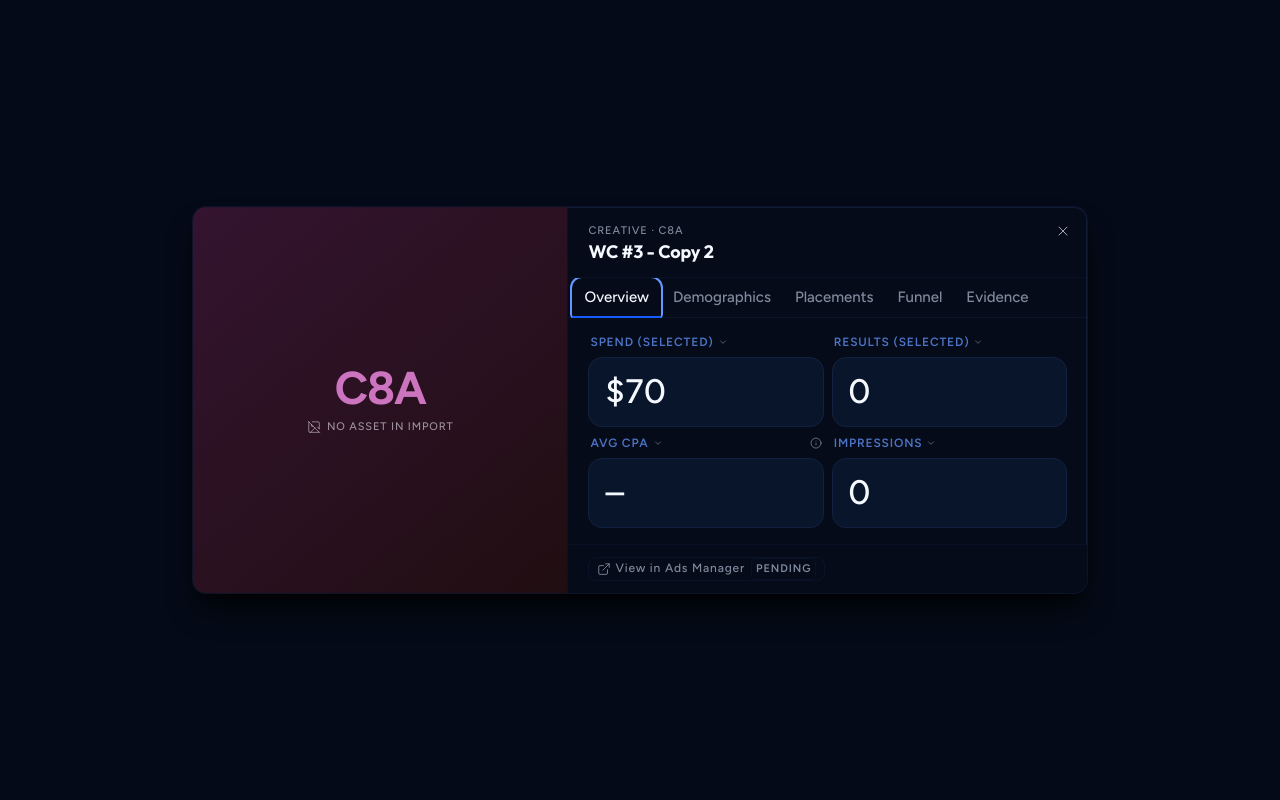
it: creative dialog joins evidence through mapped Ad IDs › Evidence lists the configured bundle and the deconstructed variable with their relationship
Click the tab "Evidence": (998, 298) top-left (954, 278), bottom-right (1041, 318)
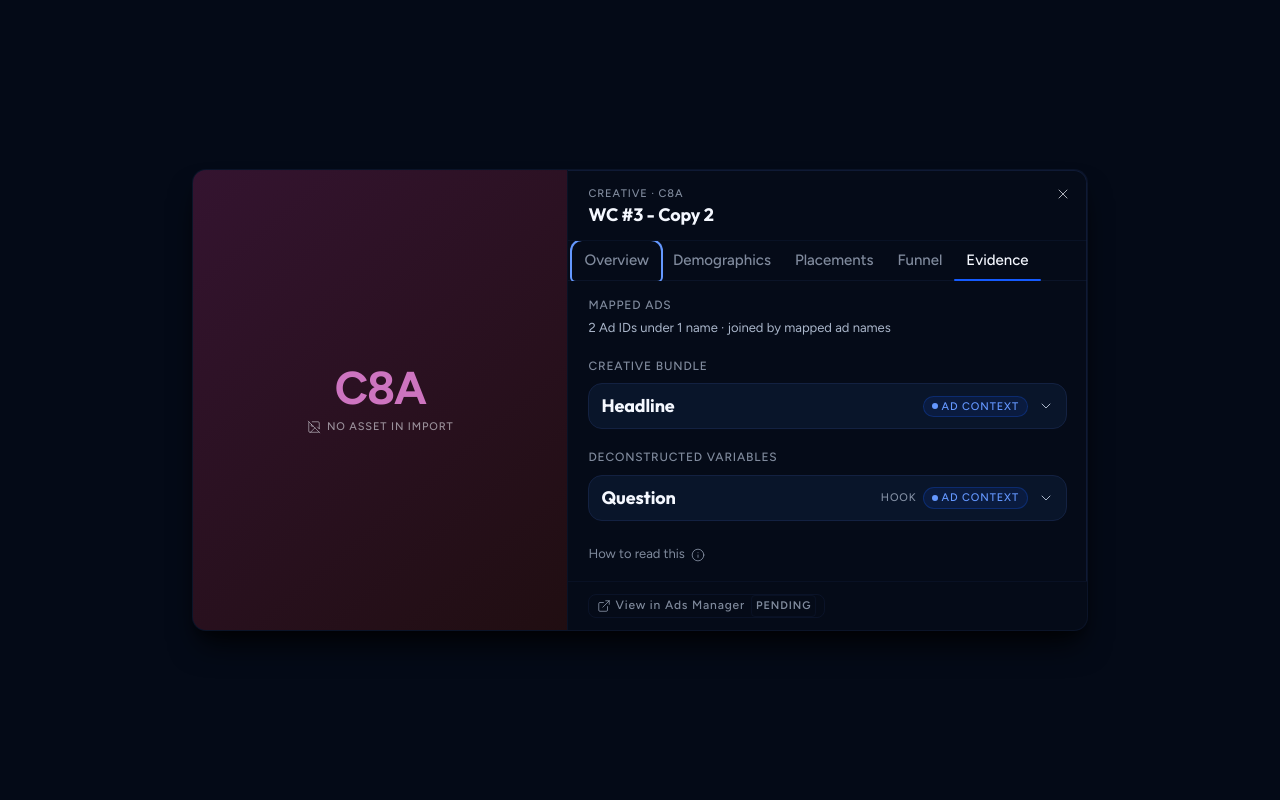
Expected: the element with test id "evidence-tab" shows "2 Ad IDs under 1 name", top-left (588, 297), bottom-right (1067, 565)
